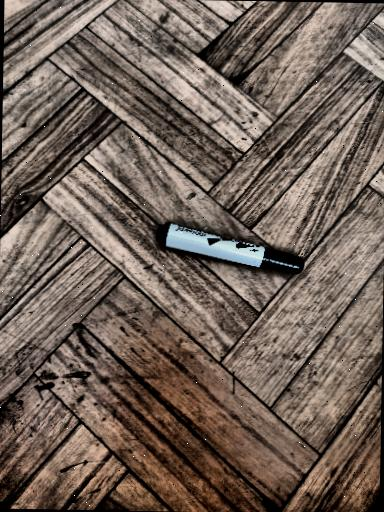marcador negro: (156, 223, 304, 274)
